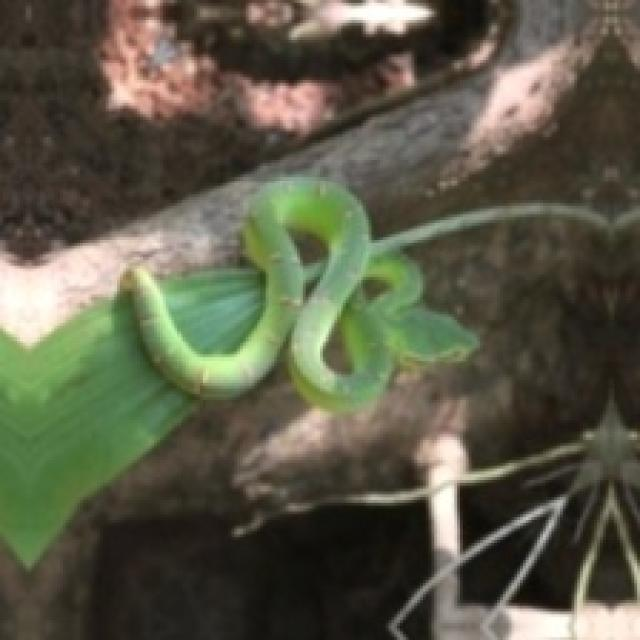north ph temple pitviper: (120, 177, 637, 409), (120, 177, 614, 411)
